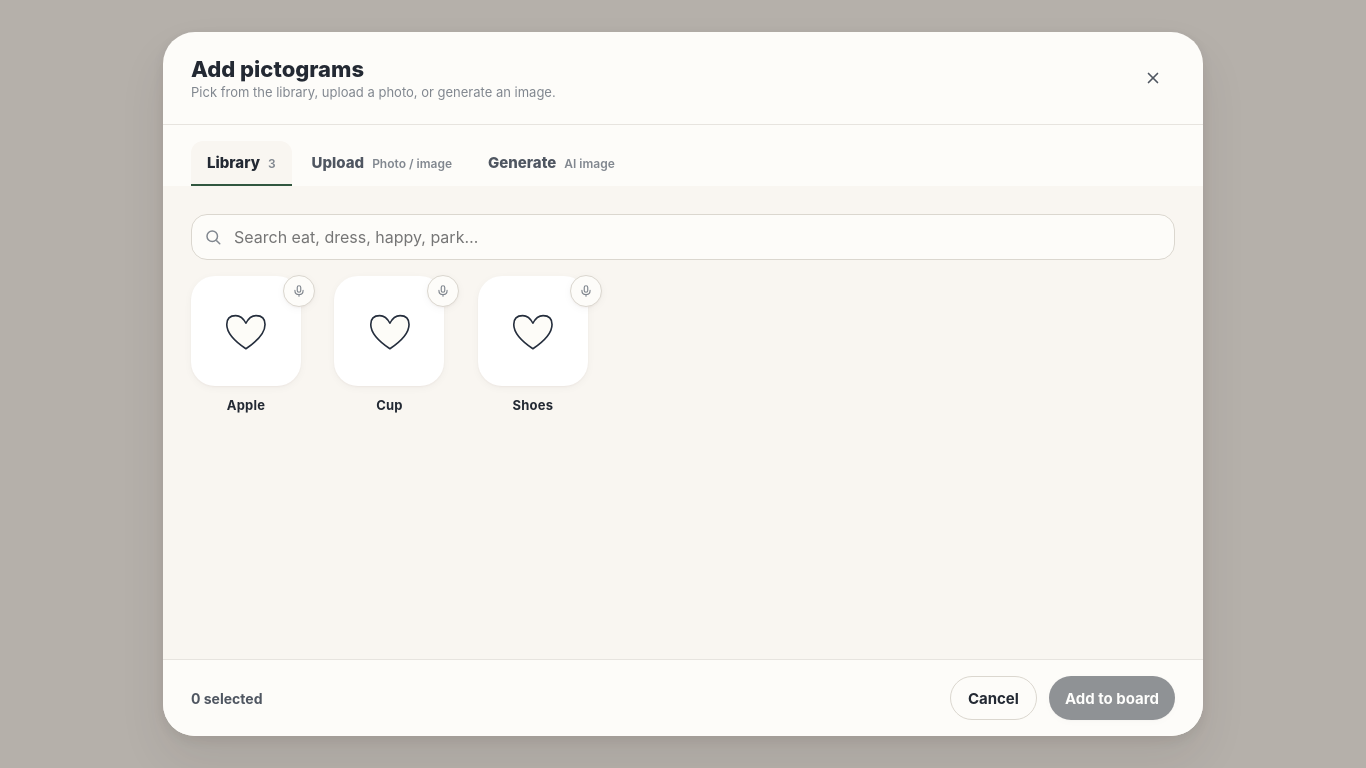
Scenario: PictoPicker › switches between library and upload tabs
expect the search field with placeholder "Search eat, dress, happy, park…" is shown: met, box [234,223,1162,251]
Click the tab "Upload": (382,164) [296,141,468,186]
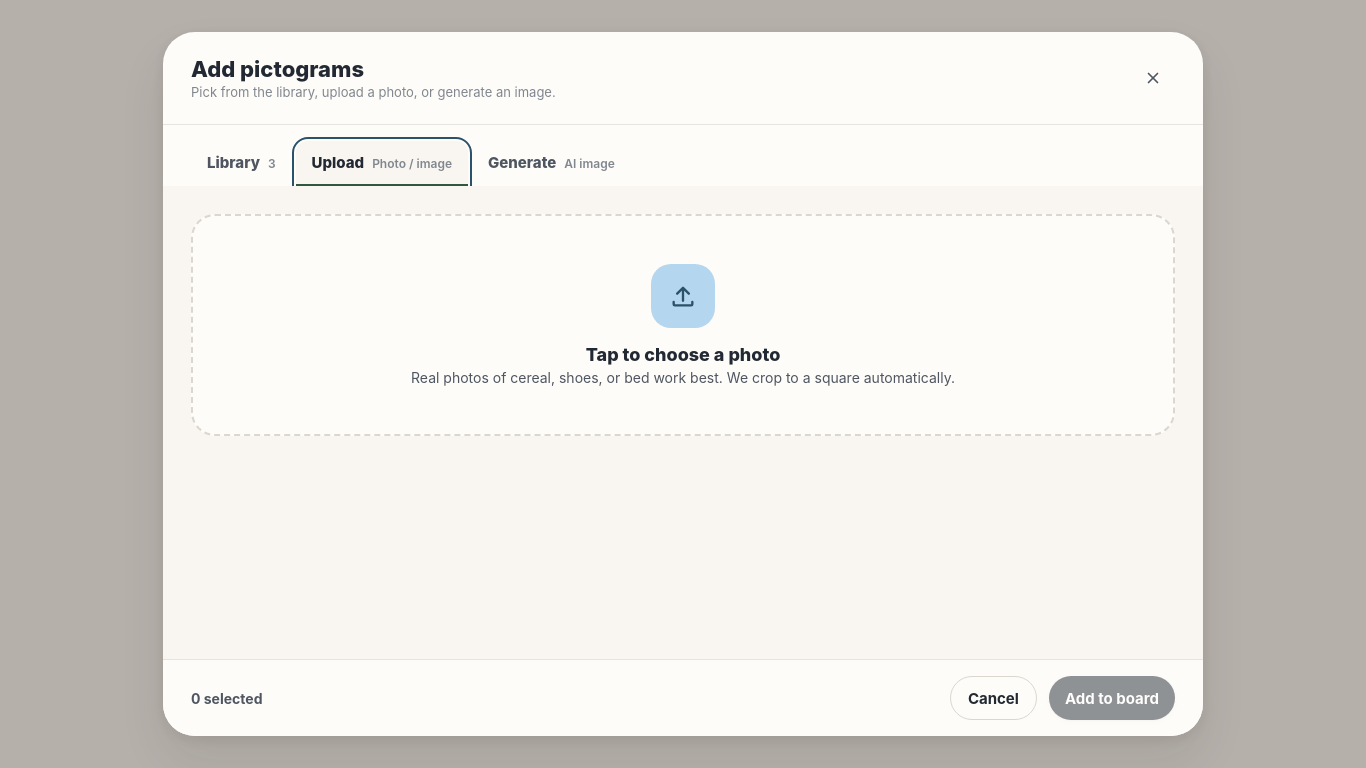
expect the field with placeholder "Search eat, dress" is not shown: met
expect the tab "Upload" is selected: met, box [296,141,468,186]
Click the tab "Library3": (241,164) [191,141,292,186]
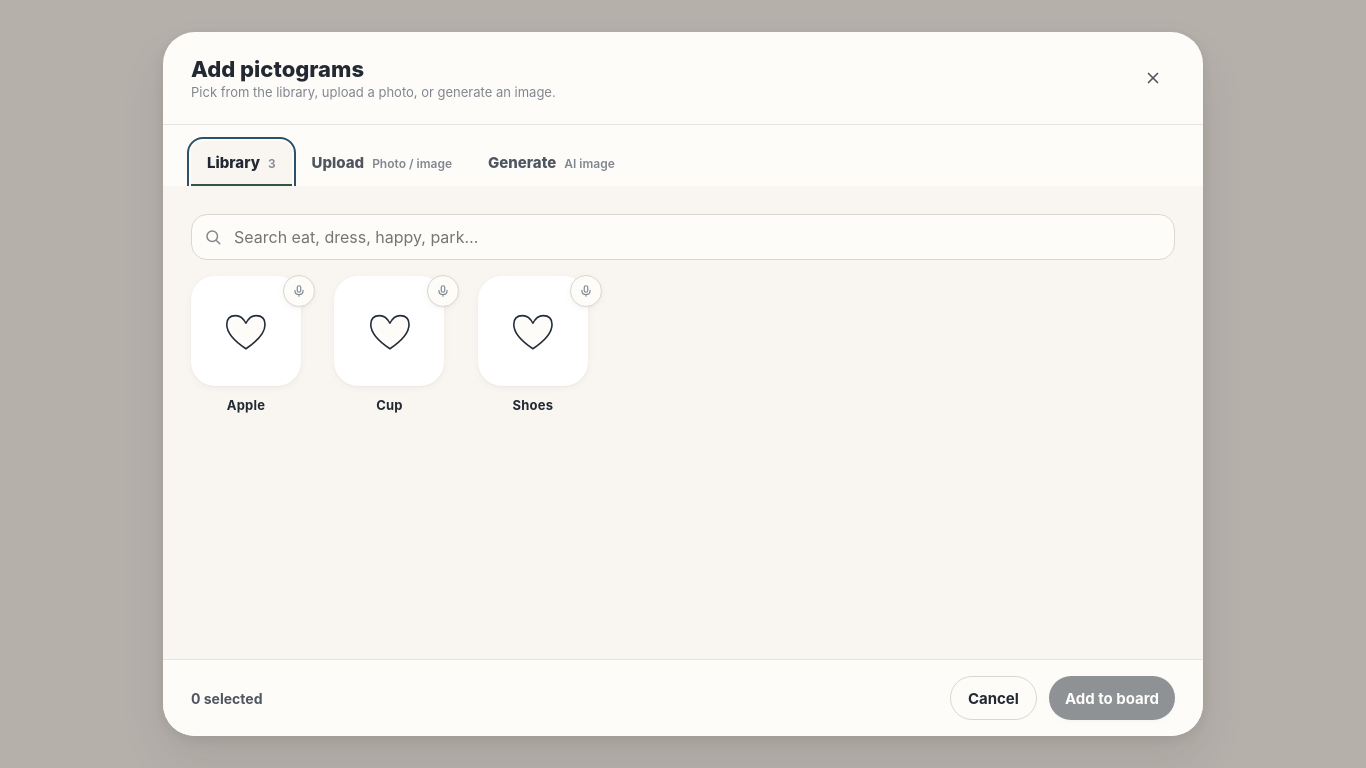
expect the search field with placeholder "Search eat, dress, happy, park…" is shown: met, box [234,223,1162,251]
